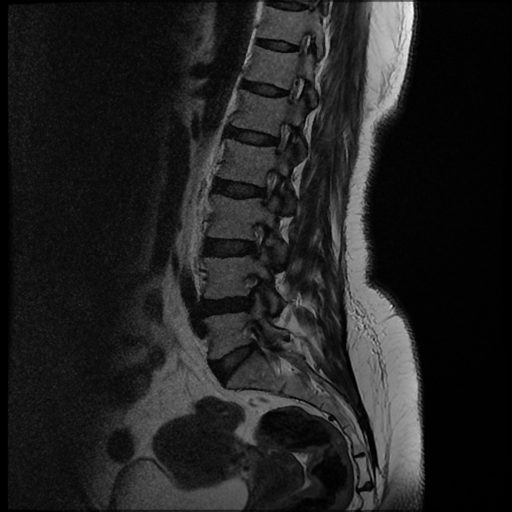LFS0: (249, 160, 288, 215), (262, 114, 303, 160)
LFS1: (242, 212, 275, 265)
